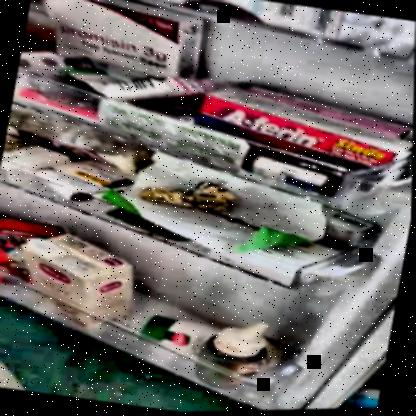milk: (8, 226, 138, 316)
